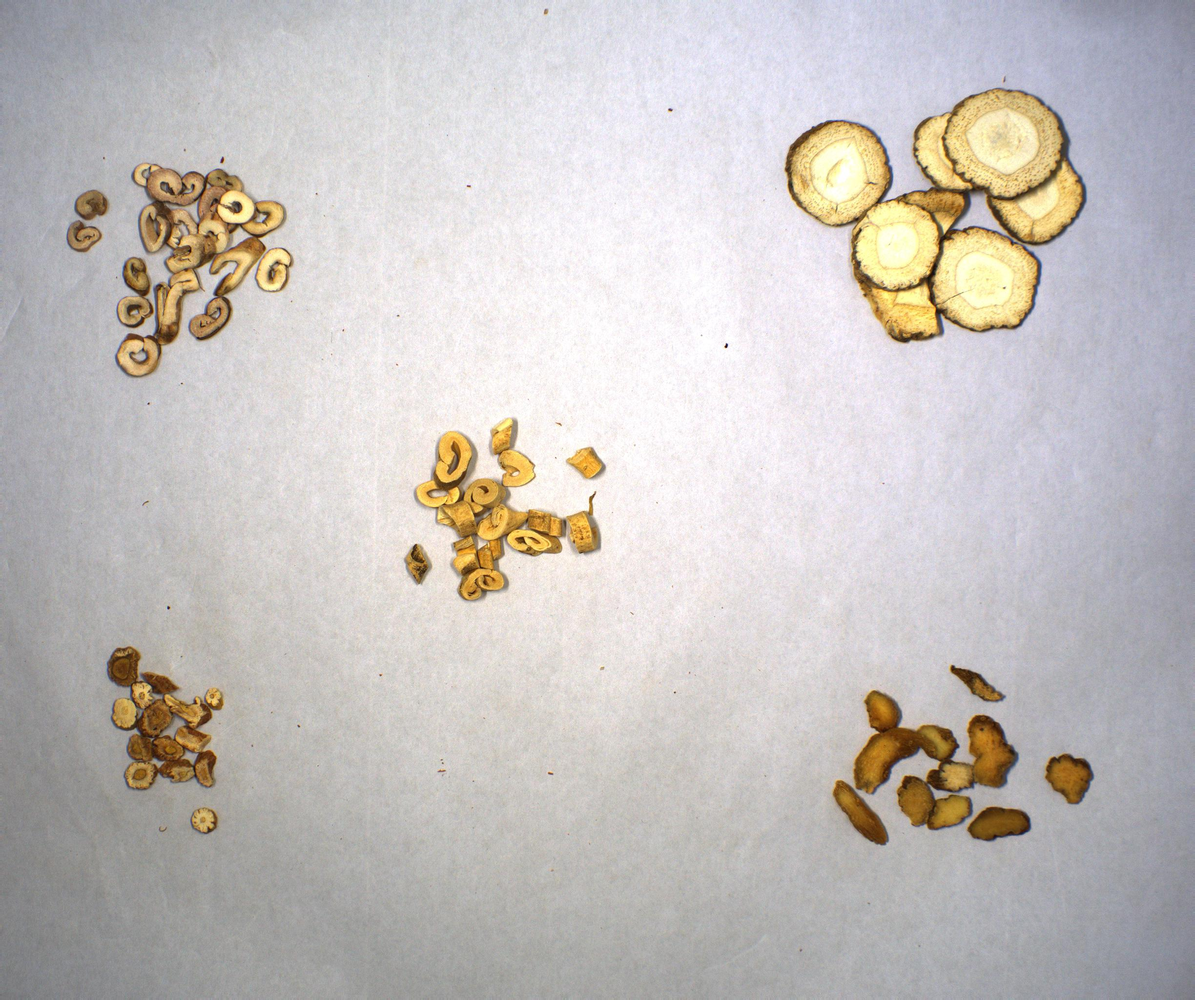baixianpi: (406, 416, 606, 602)
baizhi: (787, 87, 1089, 342)
banlangen: (99, 643, 228, 838)
mudanpi: (69, 163, 293, 380)
yuzhu: (831, 661, 1094, 847)
